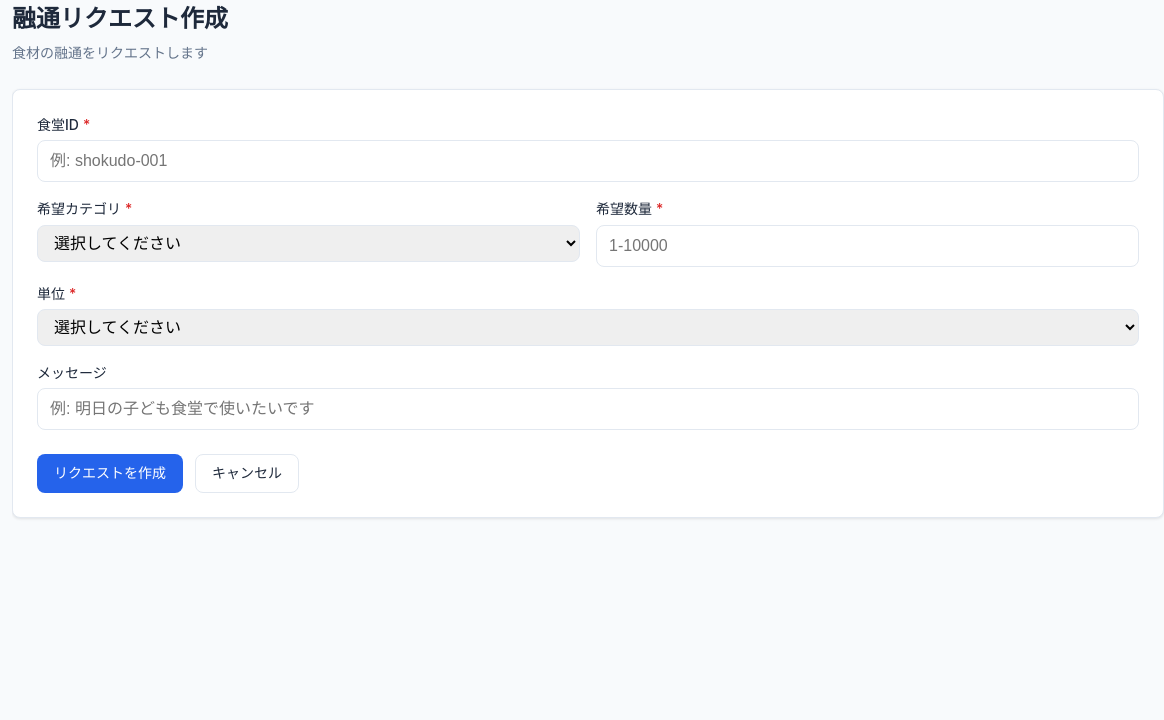
FusionRequestForm › 空のフォームを送信するとバリデーションエラーが表示される
Step 1. Click the button "リクエストを作成" → [110, 474], box left=37, top=454, right=183, bottom=493
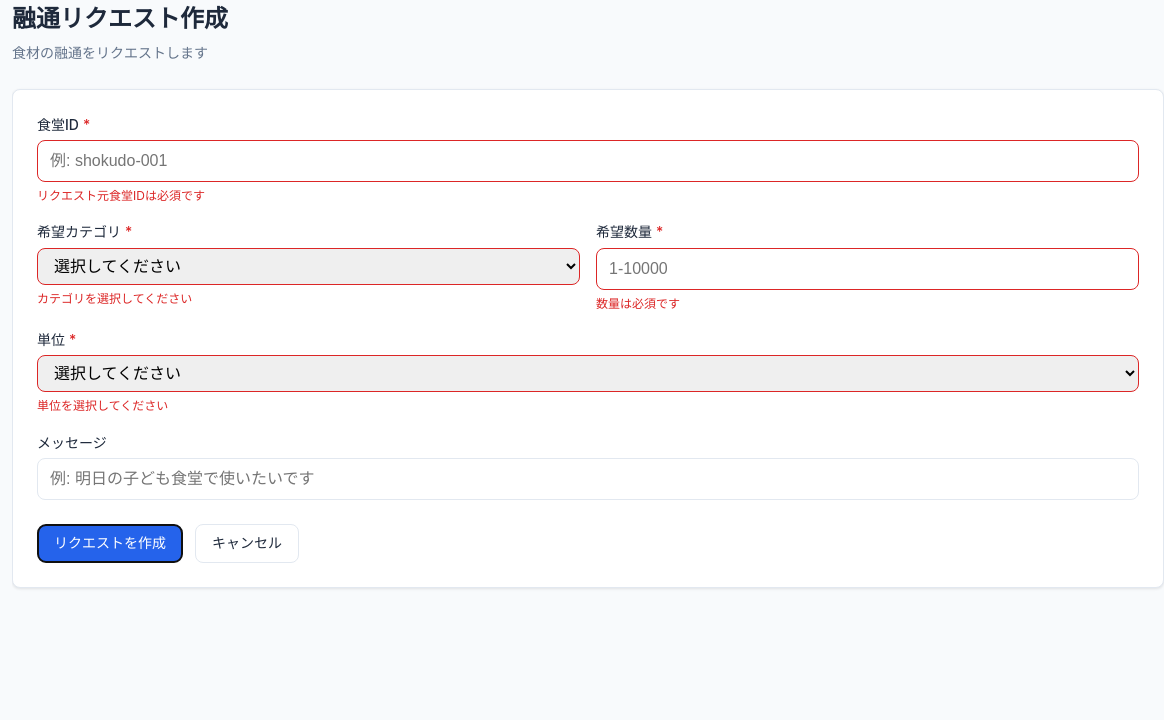
Expected: the text "リクエスト元食堂IDは必須です" is shown, left=37, top=188, right=205, bottom=203
Expected: the text "カテゴリを選択してください" is shown, left=37, top=291, right=192, bottom=306
Expected: the text "数量は必須です" is shown, left=596, top=296, right=680, bottom=311
